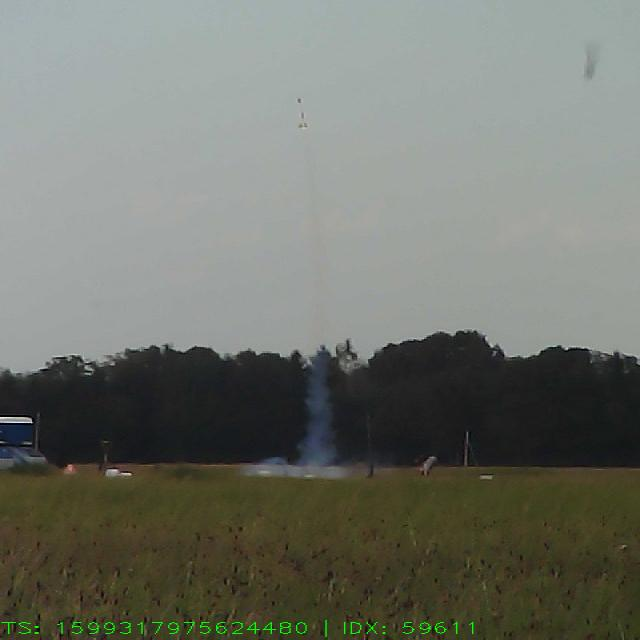Rocket: (296, 98, 308, 130)
